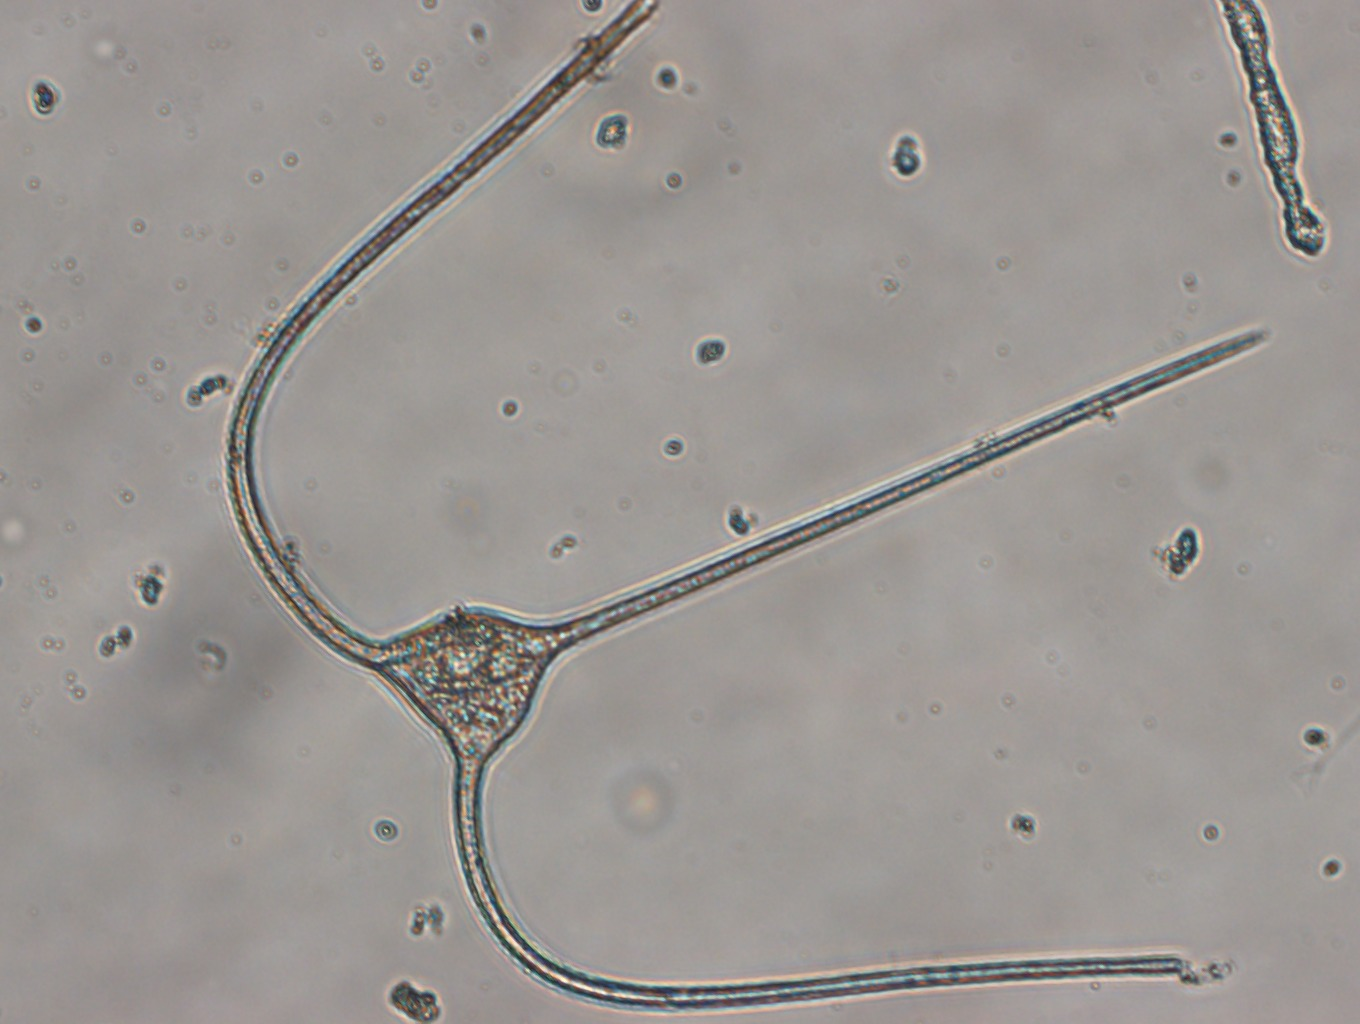ceratium trichoceros: (221, 1, 1272, 1010)
